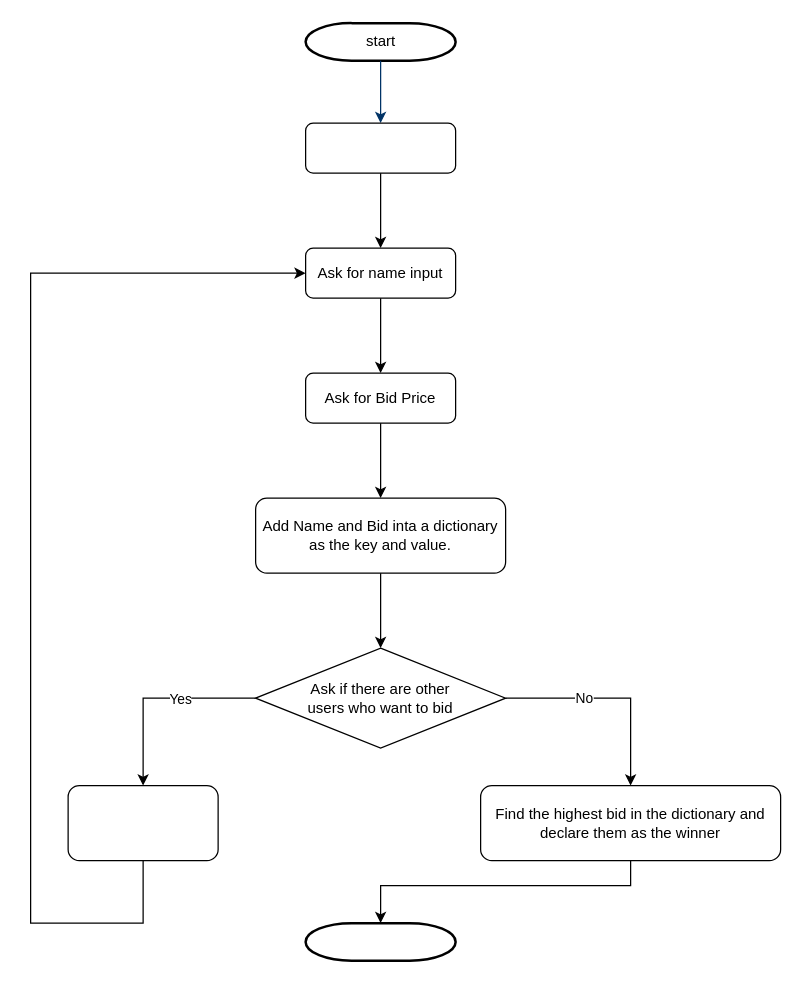
Image size: 803x983. Some labels were removed from this diagram. The shapes that lost their labels are listed below. From the top down, each one's centre as x and y in pixels, then its label:
At point 380,147: "Show logo from art.py".
At point 142,822: "Clear the screen".
At point 380,941: "end".
